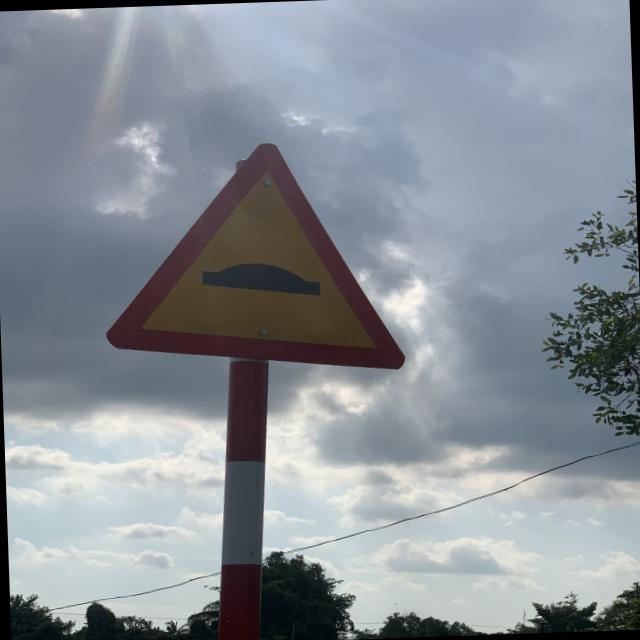Duong_Cong_Ben_Phai: (99, 134, 406, 381)
